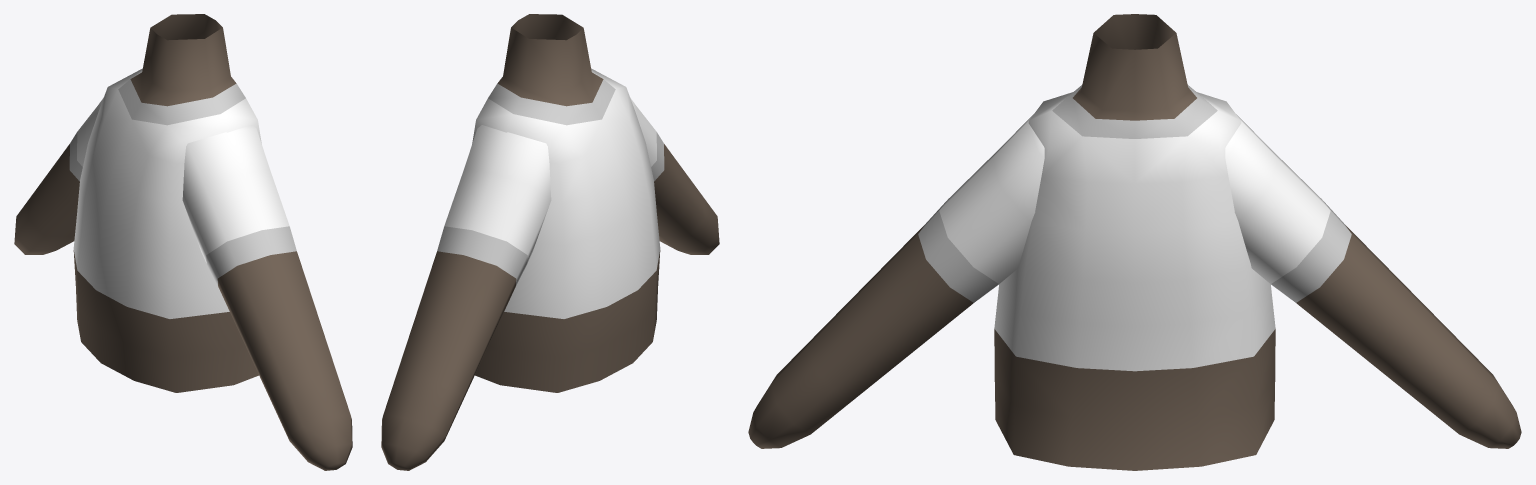
File: crop_top.fbx
The picture shows the model from 3 angles, left to right: view 1: azimuth 30°, elevation 25°; view 2: azimuth 150°, elevation 25°; view 3: azimuth 270°, elevation 25°; orthographic projection. The views are drawn at different scales.
Visible parts, largest first — view 1: Cube.003; view 2: Cube.003; view 3: Cube.003.
Part boxes in pixels (x1=…): Cube.003: x1=14, y1=14, x2=352, y2=470; Cube.003: x1=381, y1=14, x2=719, y2=470; Cube.003: x1=748, y1=14, x2=1521, y2=470.
Size of the model in its own units: 108 by 209 by 351.
